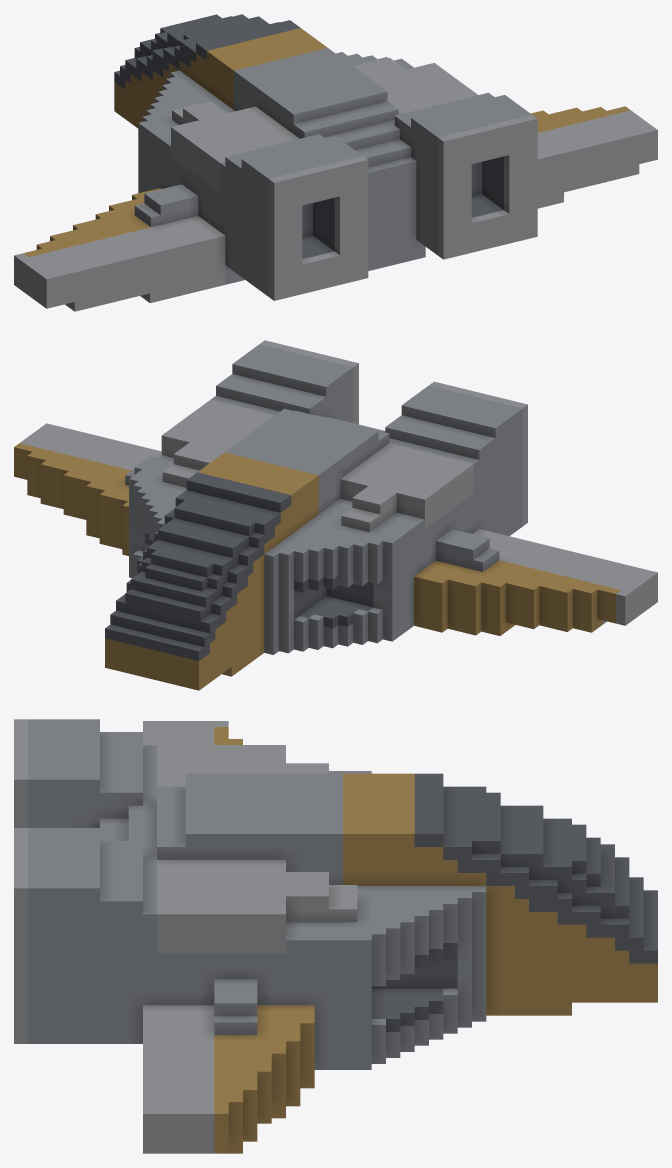
File: speeder_c.glb
The picture shows the model from 3 angles, top to bottom: view 1: azimuth 30°, elevation 25°; view 2: azimuth 150°, elevation 25°; view 3: azimuth 270°, elevation 25°; orthographic projection. The views are drawn at different scales.
Visible parts, largest first — view 1: voxels; view 2: voxels; view 3: voxels.
Part boxes in pixels (<box>): voxels: <box>14,14,657,311</box>; voxels: <box>14,340,657,690</box>; voxels: <box>14,719,657,1153</box>.
Bounding box in the file's own units: 2.84 × 0.6124 × 1.97.
